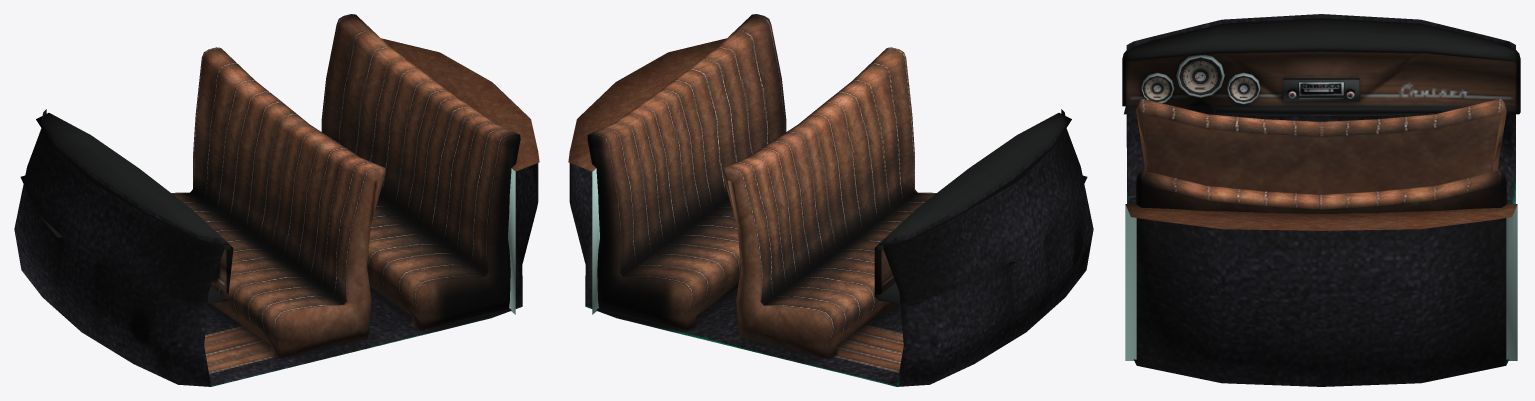
Rendered from interior3.fbx.
3 views of the same model, side by side, from view 1: azimuth 30°, elevation 25°; view 2: azimuth 150°, elevation 25°; view 3: azimuth 270°, elevation 25° (orthographic). The views are drawn at different scales.
Parts seen in each view (by area): view 1: interior; view 2: interior; view 3: interior.
Boxes of the visible parts, x1=… form: interior: x1=14, y1=14, x2=539, y2=386; interior: x1=568, y1=14, x2=1093, y2=386; interior: x1=1122, y1=14, x2=1520, y2=386.
Bounding box in the file's own units: 8512 × 3376 × 6417.
